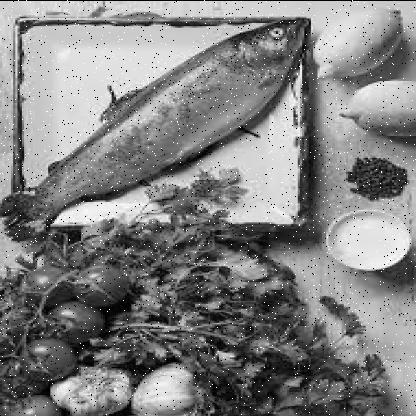fish: (0, 21, 305, 240)
